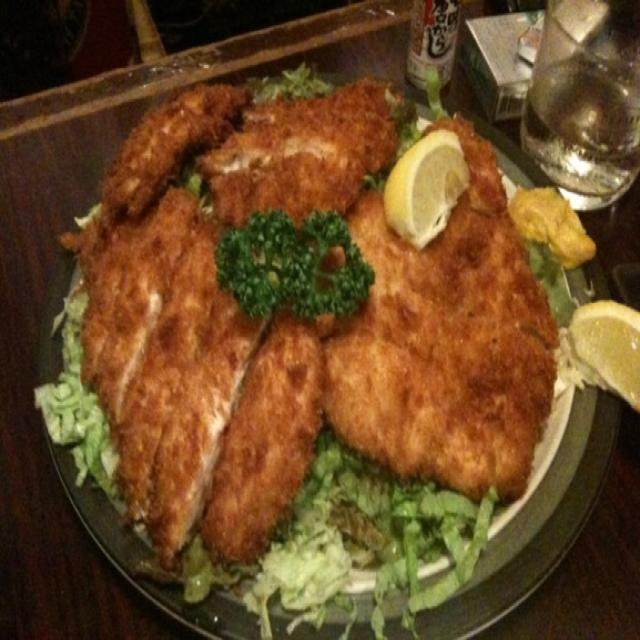鸡肉料理 含炸鸡: (54, 53, 554, 599)
